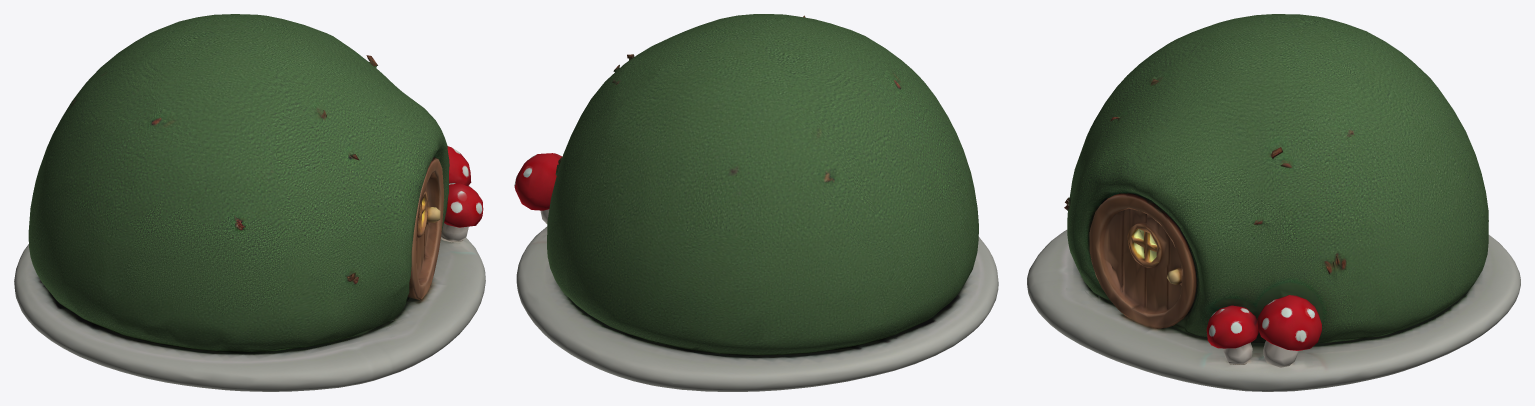
The model's file is prop_nook.glb.
3 renders of one model, left to right at view 1: azimuth 30°, elevation 25°; view 2: azimuth 150°, elevation 25°; view 3: azimuth 270°, elevation 25°, orthographic. The views are drawn at different scales.
Visible parts, largest first — view 1: tripo_node_904f3b15-eca2-47eb-aaa5-dc661946d008; view 2: tripo_node_904f3b15-eca2-47eb-aaa5-dc661946d008; view 3: tripo_node_904f3b15-eca2-47eb-aaa5-dc661946d008.
Part boxes in pixels (x1,y1,x2,y2): tripo_node_904f3b15-eca2-47eb-aaa5-dc661946d008: (14, 14, 485, 391); tripo_node_904f3b15-eca2-47eb-aaa5-dc661946d008: (514, 14, 998, 391); tripo_node_904f3b15-eca2-47eb-aaa5-dc661946d008: (1027, 14, 1520, 391).
Bounding box in the file's own units: 0.9992 × 0.5834 × 1.
Materials: 1 (1 with a texture image).
